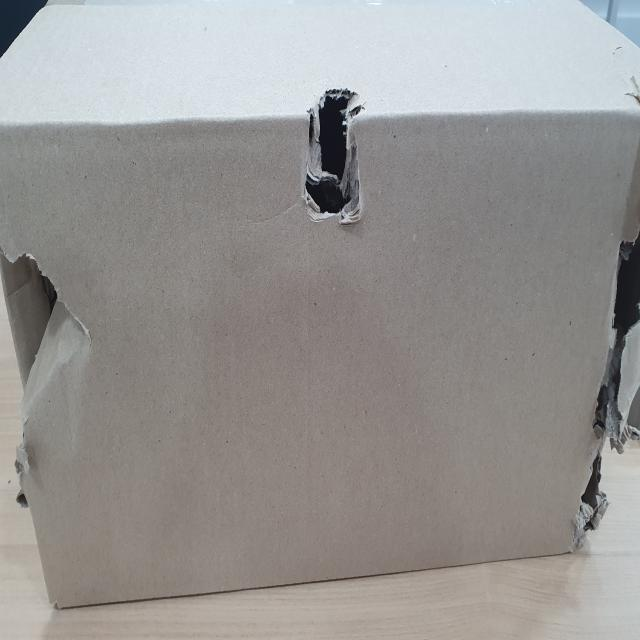hole: (572, 212, 640, 542), (1, 234, 85, 422), (302, 79, 379, 225)
